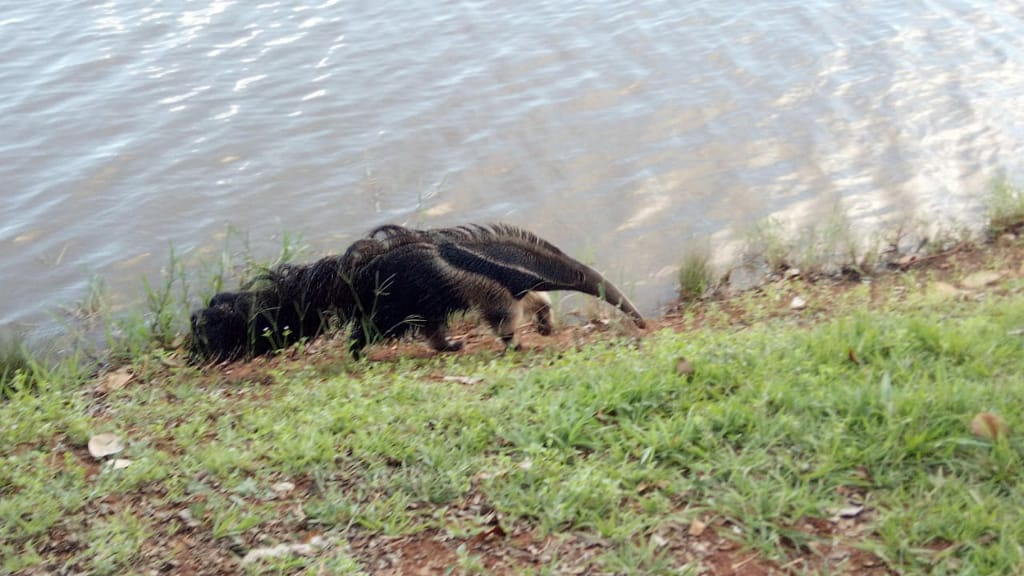TamanduaBandeira: (174, 217, 650, 351)
